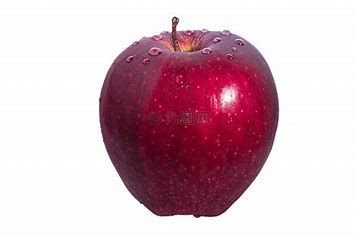fruit_apple: (94, 14, 283, 220)
